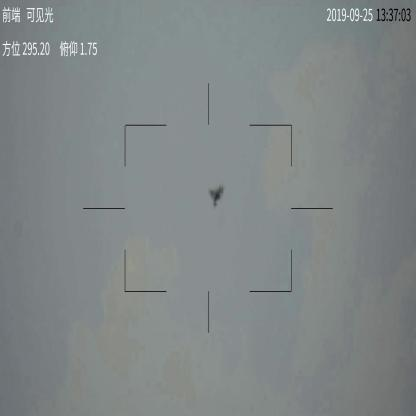uav: (207, 186, 224, 206)
